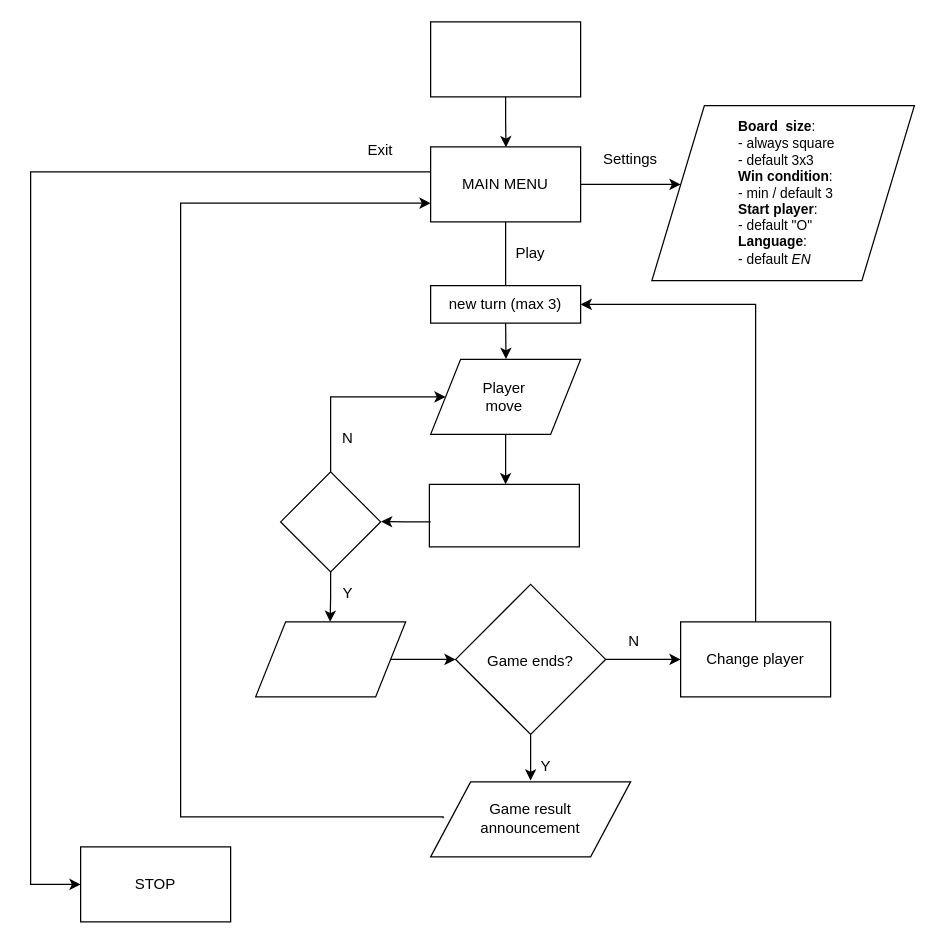
The diagram is 936 pixels wide and 944 high, and some of its shapes have lost their labels. The centre of each missing label's shape, as x and y in pixels:
Result announcement: point 330,659
START: point 505,59
turn win?: point 330,521
Updates - board, sequences: point 503,515
